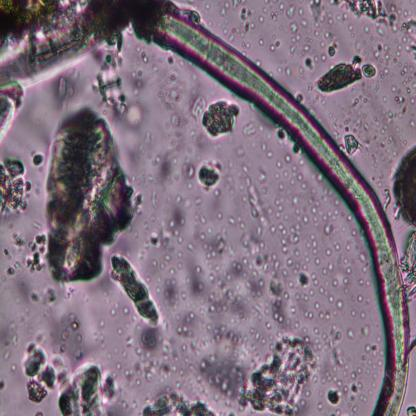Background material: (40, 107, 136, 286), (24, 339, 118, 414), (244, 334, 314, 416), (107, 253, 160, 325), (199, 331, 249, 401), (100, 52, 146, 127), (209, 257, 261, 319), (0, 221, 47, 275), (138, 385, 216, 415), (126, 349, 183, 388), (158, 70, 188, 144), (316, 56, 378, 91), (332, 0, 402, 29), (0, 156, 34, 215), (52, 312, 92, 360), (337, 90, 377, 131), (376, 109, 406, 161), (244, 163, 265, 235), (268, 276, 294, 333), (201, 99, 241, 136), (192, 223, 230, 261), (316, 320, 344, 367), (401, 226, 416, 306), (160, 193, 188, 233), (49, 71, 78, 108), (182, 260, 205, 300), (2, 317, 22, 362), (136, 323, 162, 356), (197, 159, 222, 193), (394, 54, 416, 91), (310, 271, 336, 302), (132, 127, 155, 160), (286, 3, 308, 34), (154, 154, 176, 185), (29, 287, 57, 310), (144, 229, 172, 252), (304, 231, 322, 266), (376, 41, 392, 79), (388, 86, 408, 116), (176, 310, 200, 334), (181, 353, 199, 384), (238, 5, 256, 35), (404, 17, 416, 61), (276, 222, 290, 256), (339, 131, 358, 156), (166, 280, 182, 309), (246, 324, 266, 345), (274, 197, 290, 223), (135, 166, 154, 187), (205, 322, 226, 341), (162, 320, 174, 353), (29, 151, 48, 171), (360, 147, 378, 168), (179, 161, 196, 182), (357, 248, 371, 272), (297, 267, 312, 289), (310, 195, 320, 228), (264, 252, 276, 278), (364, 339, 380, 358), (136, 43, 149, 66), (224, 174, 236, 198), (121, 398, 137, 416), (243, 119, 257, 139), (289, 164, 303, 184), (148, 186, 159, 211), (323, 207, 341, 222), (309, 0, 324, 18), (319, 187, 333, 206), (384, 188, 393, 216), (328, 388, 342, 406), (294, 193, 304, 218), (132, 192, 143, 214), (257, 164, 269, 184), (129, 66, 144, 82), (271, 4, 284, 22), (396, 33, 405, 58), (226, 215, 243, 228), (321, 258, 334, 275), (289, 224, 300, 244), (154, 274, 164, 296), (92, 328, 104, 346), (342, 274, 352, 295), (260, 0, 276, 13), (194, 211, 206, 228), (374, 169, 385, 187), (351, 366, 365, 380), (164, 53, 179, 66), (293, 290, 309, 302), (192, 336, 204, 352), (160, 253, 171, 270), (303, 57, 315, 72), (326, 43, 338, 58), (269, 37, 281, 52), (323, 220, 334, 236), (106, 305, 117, 321), (224, 154, 233, 173), (360, 320, 370, 337), (220, 0, 230, 17), (234, 144, 247, 157), (322, 370, 333, 385), (347, 327, 358, 342), (300, 326, 310, 342), (301, 42, 313, 55), (302, 308, 315, 320), (294, 90, 306, 103), (124, 334, 136, 347), (359, 355, 373, 366), (352, 36, 361, 52), (340, 362, 350, 376), (174, 232, 185, 244), (233, 0, 245, 11), (315, 94, 327, 105), (66, 286, 76, 299), (350, 382, 360, 395), (329, 274, 339, 286), (121, 303, 131, 315), (357, 276, 370, 285), (318, 311, 331, 320), (148, 211, 156, 225), (375, 27, 385, 38), (315, 173, 325, 184), (240, 43, 250, 54), (290, 34, 301, 44), (335, 298, 344, 310), (194, 196, 203, 208), (102, 290, 110, 303), (350, 402, 358, 415), (274, 156, 282, 169), (349, 306, 358, 317), (325, 9, 332, 23), (408, 116, 416, 128), (113, 358, 121, 370), (297, 66, 304, 79), (275, 65, 284, 75), (358, 309, 366, 320), (319, 52, 327, 63), (340, 224, 348, 235), (214, 210, 222, 221), (343, 240, 351, 251), (152, 62, 160, 73), (309, 184, 317, 195), (314, 18, 322, 29), (268, 223, 276, 234), (281, 166, 288, 178), (176, 260, 183, 272), (346, 19, 353, 31), (284, 152, 291, 164), (333, 379, 343, 387), (272, 171, 280, 181), (260, 142, 268, 152), (178, 343, 186, 353), (363, 368, 373, 376), (324, 246, 332, 256), (378, 95, 388, 103), (292, 262, 298, 275), (0, 379, 6, 392), (100, 317, 106, 330), (9, 361, 16, 372), (168, 265, 175, 276), (281, 267, 289, 276), (286, 257, 294, 266), (309, 83, 315, 95), (332, 312, 341, 320), (320, 38, 326, 50), (309, 374, 318, 382), (186, 178, 192, 190), (285, 69, 293, 78), (258, 35, 264, 47), (226, 33, 234, 42), (305, 34, 312, 44), (343, 256, 350, 266), (289, 46, 296, 56), (295, 318, 301, 329), (410, 94, 416, 105), (358, 394, 366, 402), (203, 2, 211, 10), (362, 26, 370, 34), (298, 157, 306, 165), (221, 27, 229, 35), (0, 274, 7, 283), (115, 326, 122, 335), (301, 182, 308, 191), (304, 214, 310, 224), (18, 278, 24, 288), (325, 30, 332, 38), (266, 151, 273, 159), (258, 16, 265, 24), (346, 267, 354, 274), (314, 29, 322, 36), (188, 243, 195, 251), (313, 327, 320, 335), (346, 212, 352, 221), (294, 249, 300, 258), (146, 274, 151, 284), (121, 351, 127, 359), (280, 182, 286, 190), (44, 310, 50, 318), (371, 380, 377, 388), (342, 387, 350, 393), (206, 22, 214, 28), (318, 402, 324, 410), (316, 304, 322, 312), (176, 250, 182, 258), (336, 241, 341, 250), (334, 14, 340, 21), (304, 390, 310, 397), (351, 229, 357, 236), (152, 260, 158, 267), (268, 209, 273, 217), (368, 390, 376, 395), (358, 294, 363, 302), (376, 361, 382, 367), (343, 11, 347, 20), (373, 372, 378, 379), (291, 306, 295, 314), (267, 323, 272, 329), (350, 32, 354, 37)
Diatom: (393, 144, 416, 226)
Microfibre: (0, 4, 409, 414)
